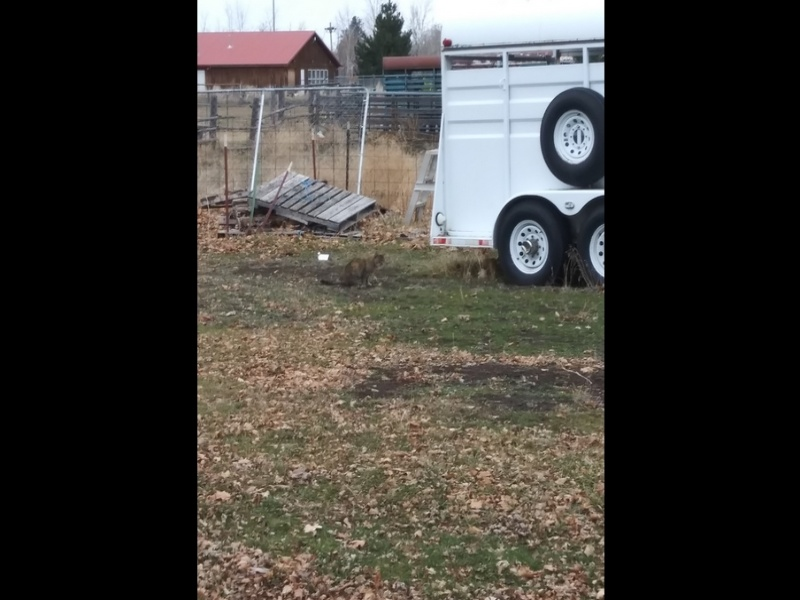cat: (318, 251, 386, 287)
